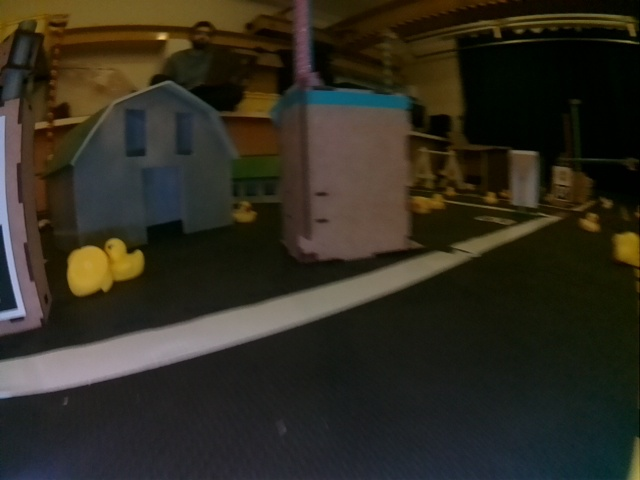Duckie: (67, 248, 111, 295), (105, 237, 143, 281), (613, 230, 639, 264), (233, 201, 255, 221), (578, 212, 600, 230), (409, 197, 430, 213)
